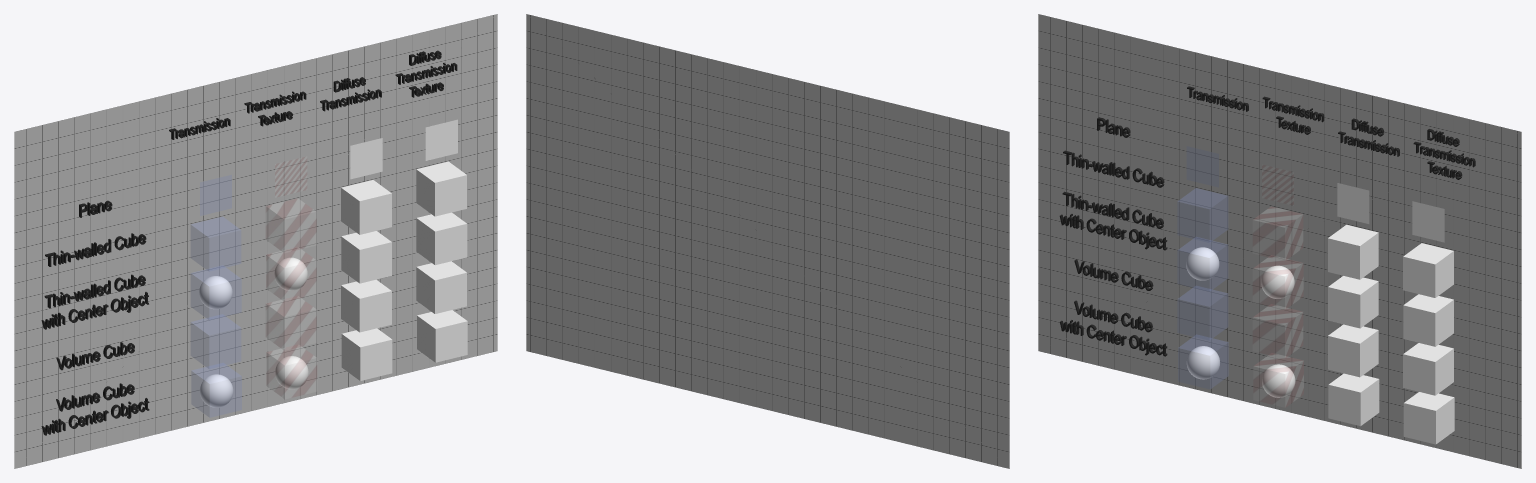
The model's file is TransmissionTinting.glb.
The picture shows the model from 3 angles, left to right: view 1: azimuth 30°, elevation 25°; view 2: azimuth 150°, elevation 25°; view 3: azimuth 330°, elevation 25°; orthographic projection.
Visible parts, largest first — view 1: MeterGrid_n3d, VolumeCube (×8), ThinWalledCube (×4), ThinWalledCubeWithCentre (×4), Text (×8), Plane (×4), Sphere (×4); view 2: MeterGrid_n3d; view 3: MeterGrid_n3d, VolumeCube (×8), ThinWalledCube (×4), Text (×8), ThinWalledCubeWithCentre (×4), Plane (×4), Sphere (×4).
Boxes of the visible parts, <box> form: MeterGrid_n3d: <box>14,14,497,468</box>; VolumeCube (×8): <box>191,261,467,417</box>; ThinWalledCube (×4): <box>191,161,466,271</box>; ThinWalledCubeWithCentre (×4): <box>191,212,467,319</box>; Text (×8): <box>41,50,457,435</box>; Plane (×4): <box>200,119,457,215</box>; Sphere (×4): <box>199,257,308,407</box>; MeterGrid_n3d: <box>526,14,1009,468</box>; MeterGrid_n3d: <box>1038,14,1521,468</box>; VolumeCube (×8): <box>1177,286,1454,444</box>; ThinWalledCube (×4): <box>1177,188,1453,297</box>; Text (×8): <box>1059,86,1475,356</box>; ThinWalledCubeWithCentre (×4): <box>1177,237,1453,346</box>; Plane (×4): <box>1187,146,1444,242</box>; Sphere (×4): <box>1186,247,1295,397</box>.
Bounding box in the file's own units: 1.5 × 1 × 0.15.
Materials: 11 (3 with a texture image).
